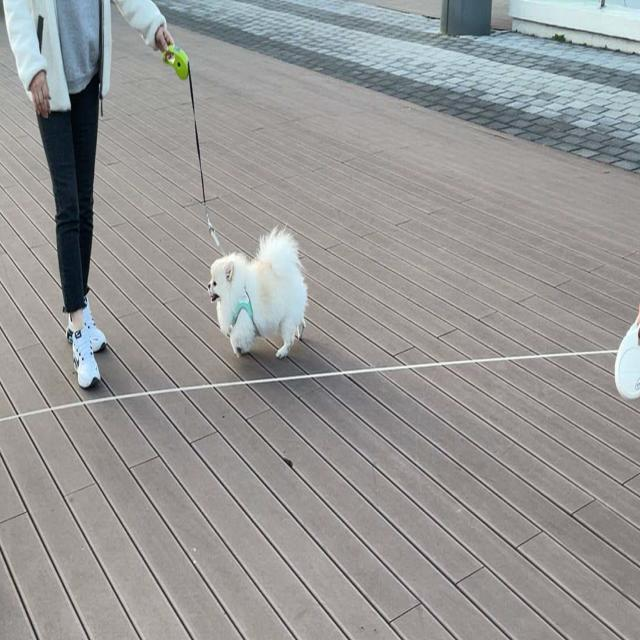Leashed_Dog: (78, 0, 308, 360)
